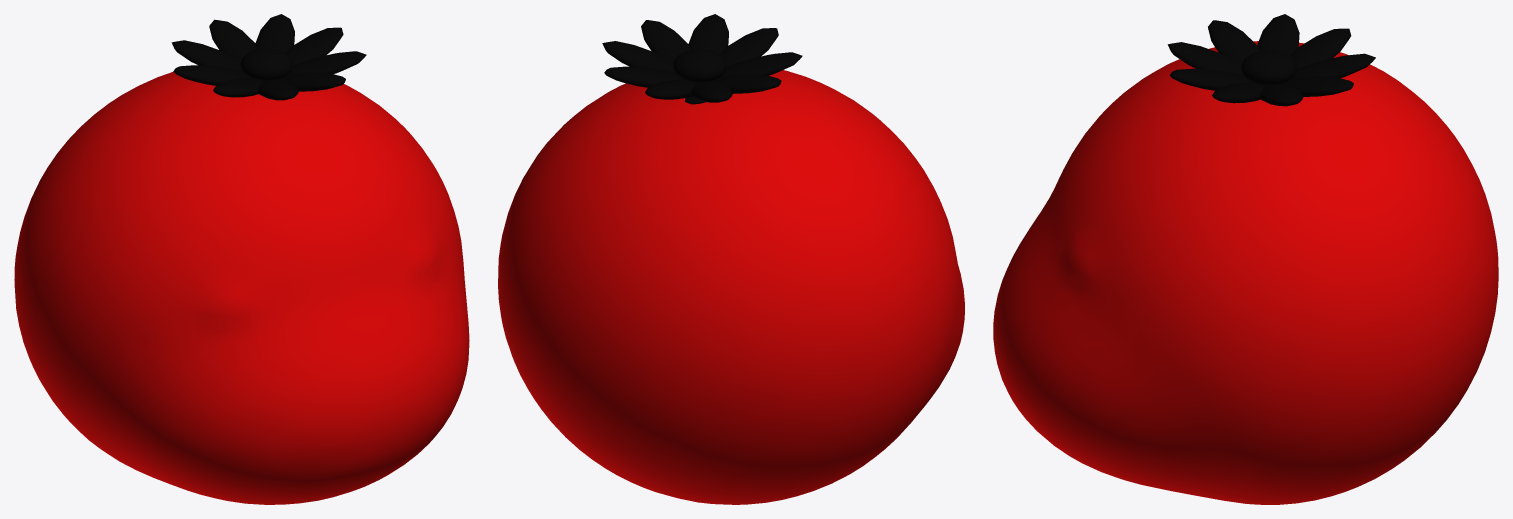
Rendered from pebble_head.glb.
3 views of the same model, side by side, from view 1: azimuth 30°, elevation 25°; view 2: azimuth 150°, elevation 25°; view 3: azimuth 270°, elevation 25° (orthographic). The views are drawn at different scales.
Parts seen in each view (by area): view 1: PebbleHead; view 2: PebbleHead; view 3: PebbleHead.
Boxes of the visible parts, bbox=[...] form: PebbleHead: bbox=[14, 14, 469, 504]; PebbleHead: bbox=[498, 14, 964, 504]; PebbleHead: bbox=[993, 14, 1498, 504].
Bounding box in the file's own units: 0.498 × 0.4982 × 0.5181.
